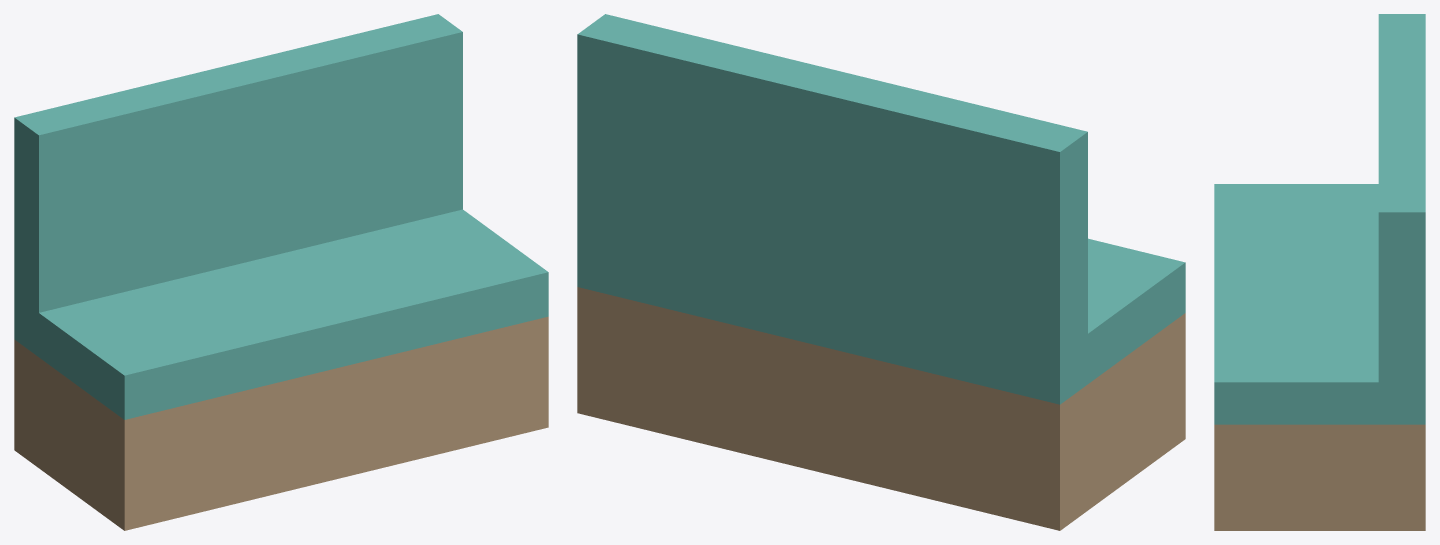
Rendered from voxel-city-districts-booth-seat-b35affc9__24887.glb.
3 views of the same model, side by side, from view 1: azimuth 30°, elevation 25°; view 2: azimuth 150°, elevation 25°; view 3: azimuth 270°, elevation 25° (orthographic). The views are drawn at different scales.
Visible parts, largest first — view 1: booth-seat-accent, booth-seat-wood; view 2: booth-seat-accent, booth-seat-wood; view 3: booth-seat-accent, booth-seat-wood.
Part boxes in pixels (x1,y1,x2,y2): booth-seat-accent: (14, 14, 548, 419); booth-seat-wood: (14, 316, 548, 530); booth-seat-accent: (577, 14, 1185, 404); booth-seat-wood: (577, 287, 1185, 530); booth-seat-accent: (1214, 14, 1425, 424); booth-seat-wood: (1214, 424, 1425, 530).
Bounding box in the file's own units: 2 × 1.5 × 0.9.
